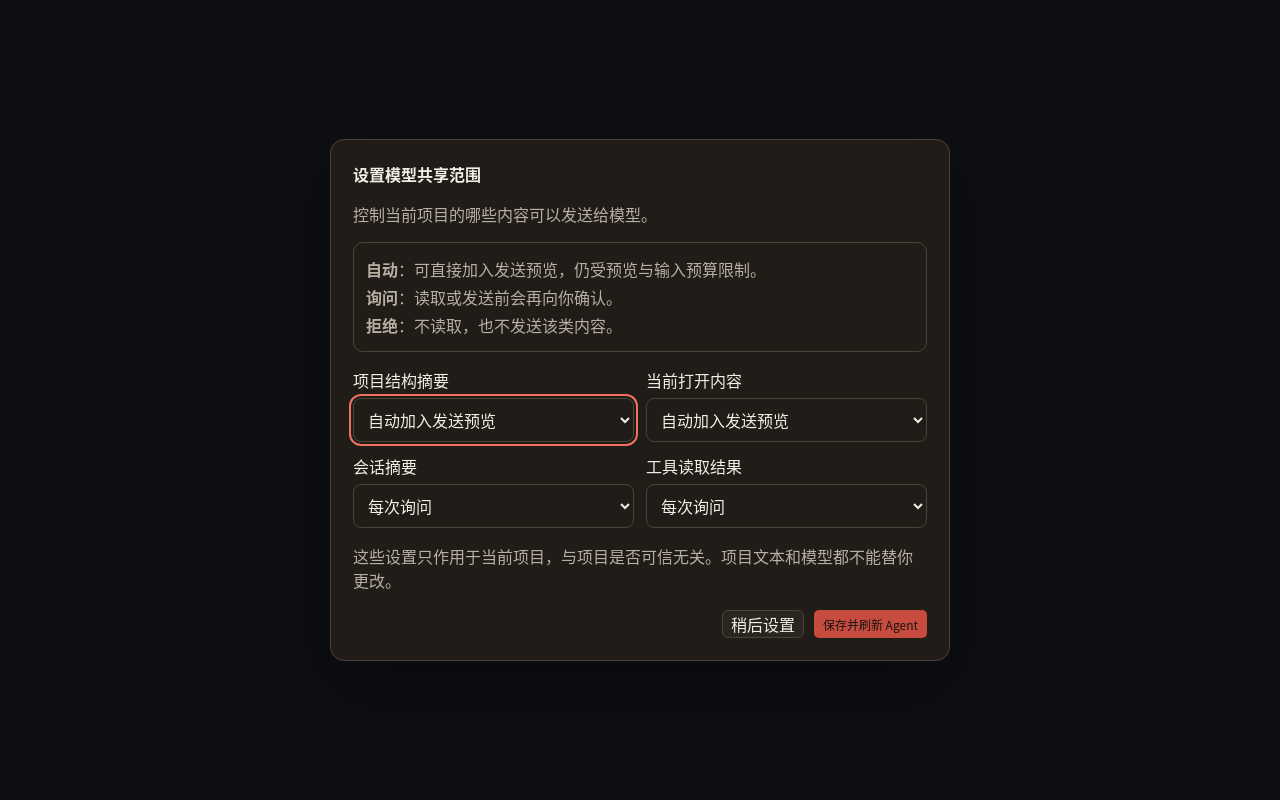
AgentModelSharingDialog › keeps the dialog editable when Main rejects persistence
This screenshot has width=1280, height=800.
Click the button with class "ns-ai-send-button" at (870,624), box [814,610,927,638]
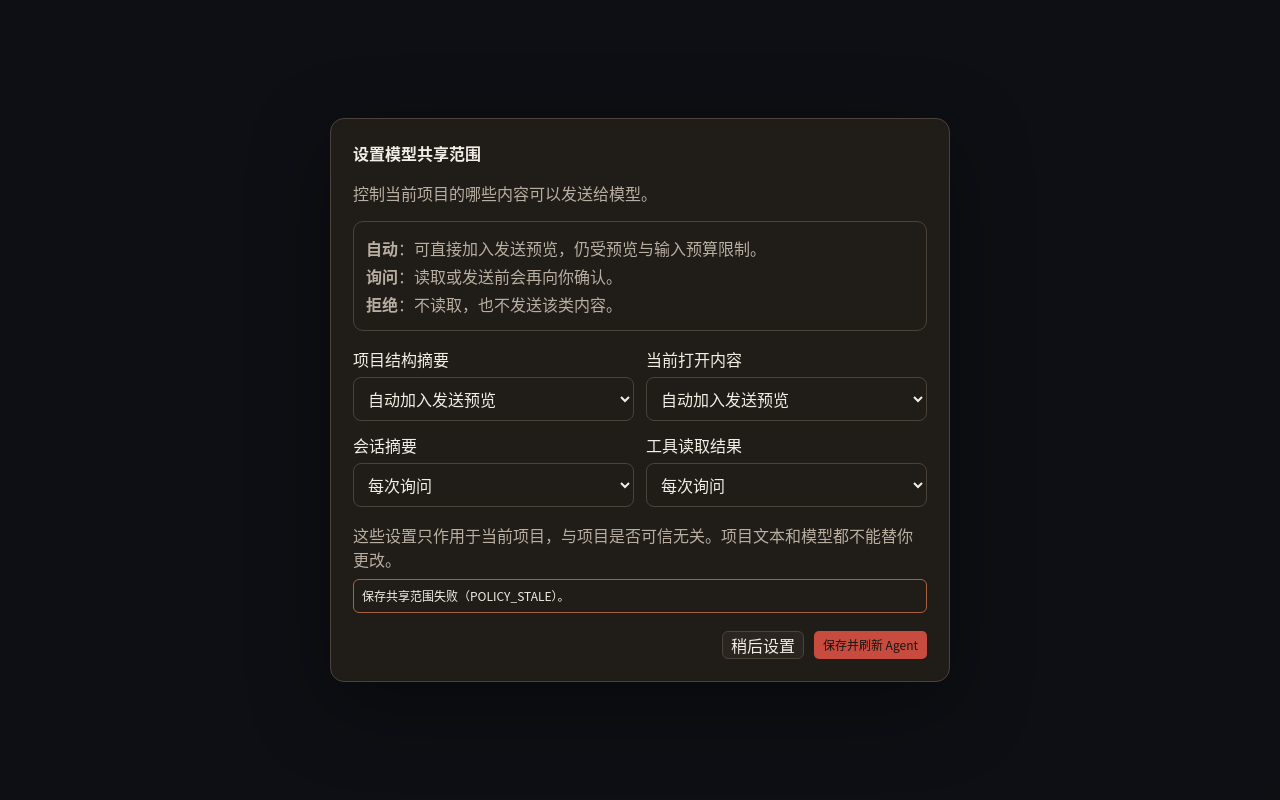
Expected: the dropdown named "项目结构摘要" is enabled, [353,377,634,421]
Expected: the message "保存共享范围失败（POLICY_STALE）。" is shown, [353,579,927,613]
